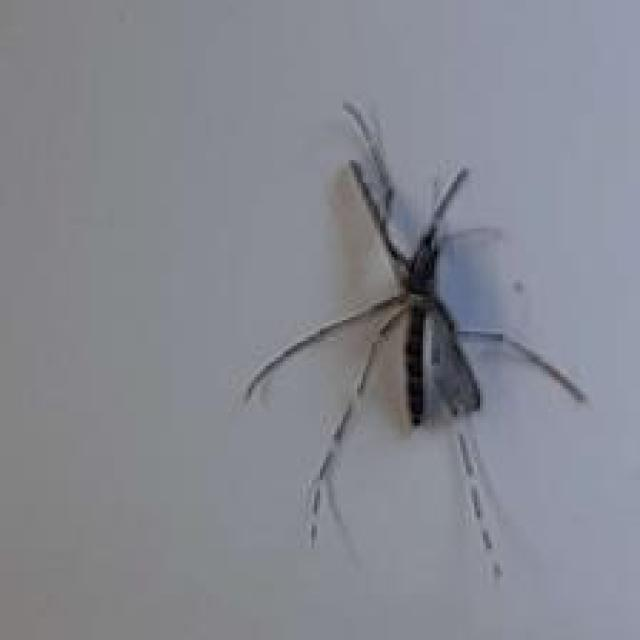Aedes albopictus: (241, 97, 590, 583)
